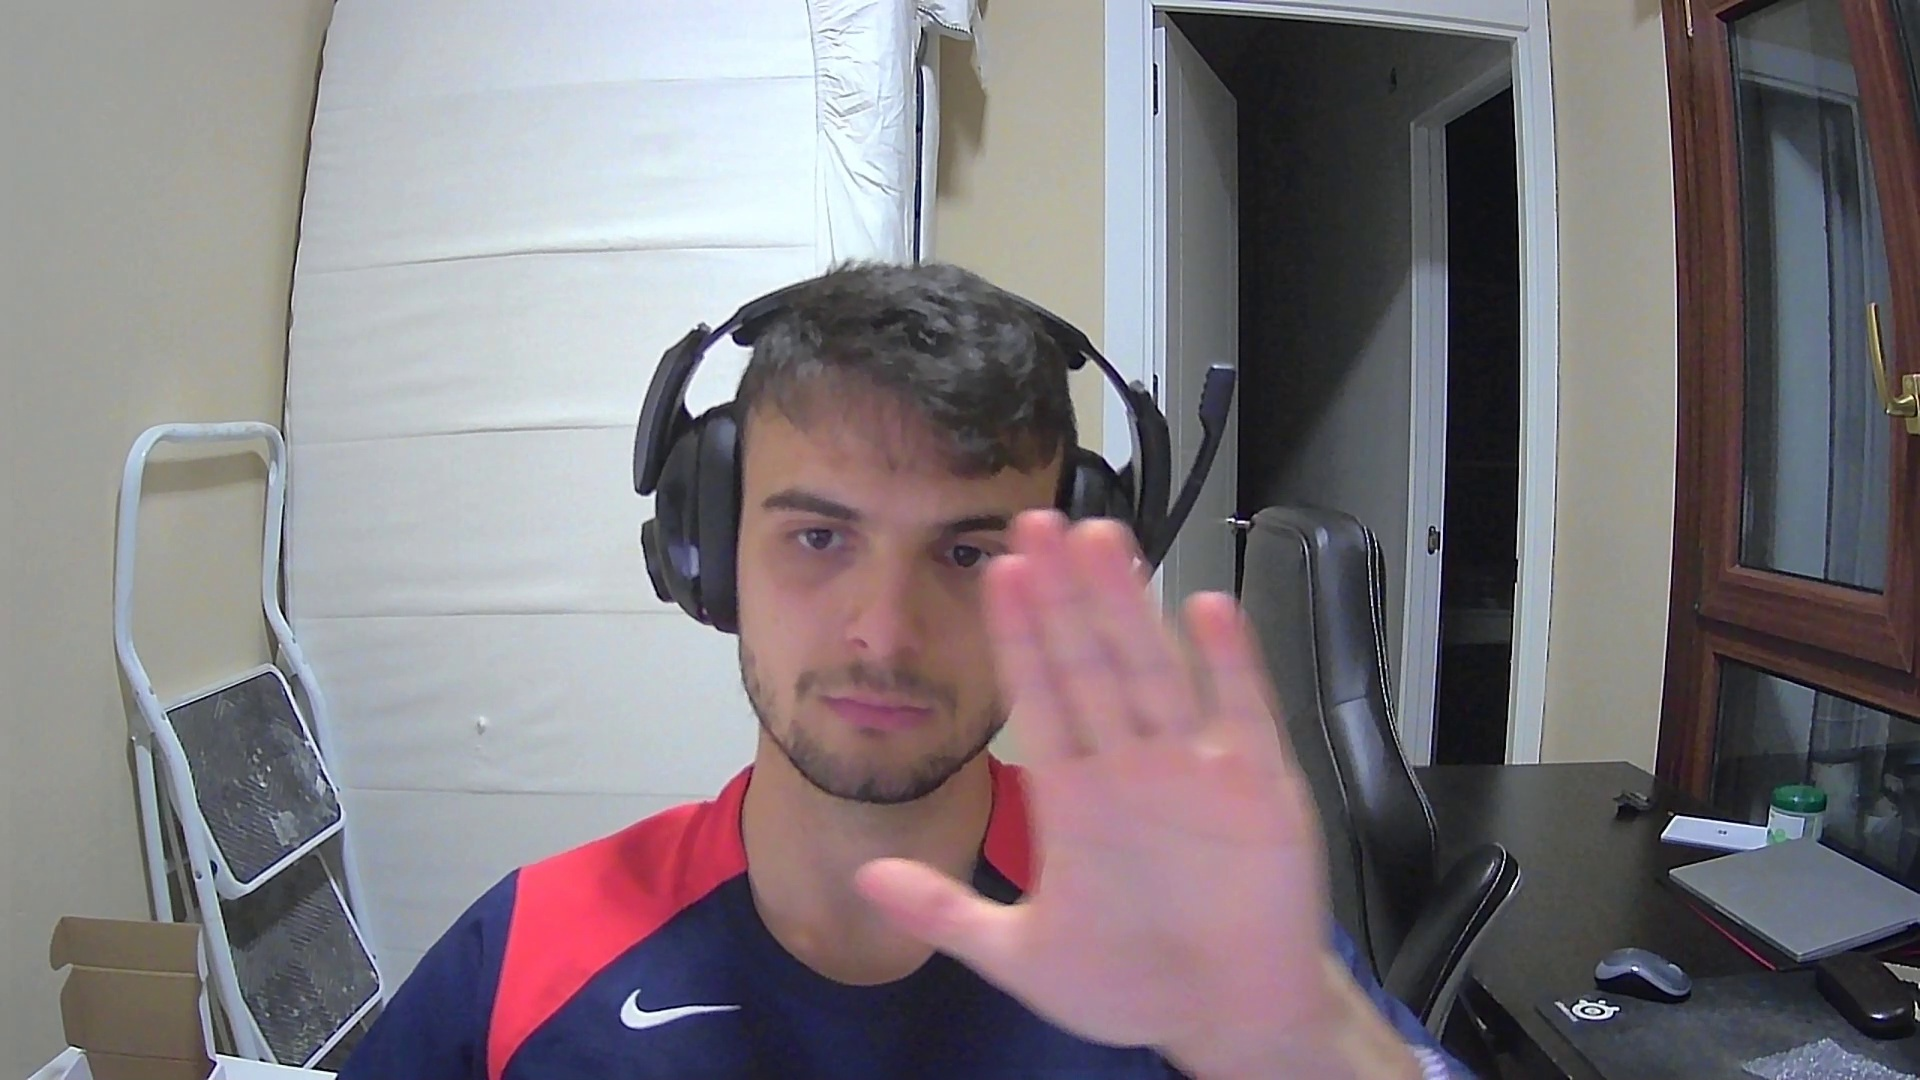Palm: (851, 505, 1337, 1051)
